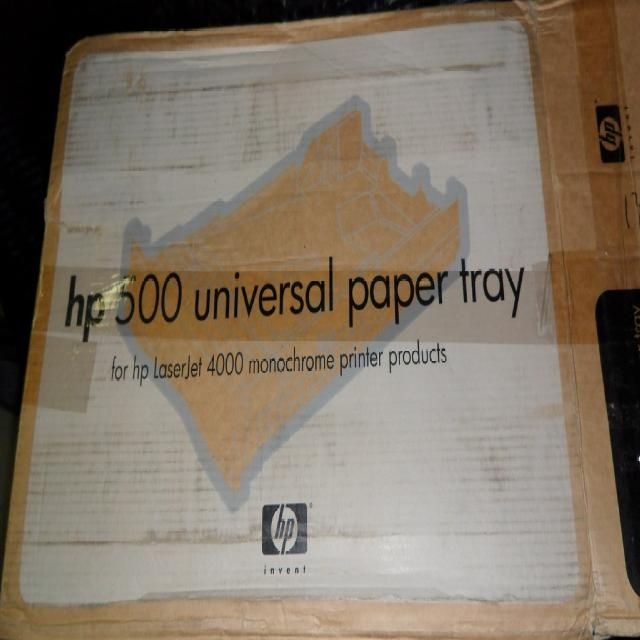HP: (261, 503, 309, 558)
